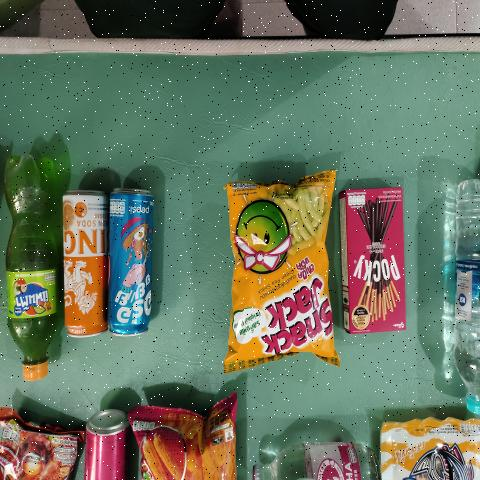fanta_green: (0, 141, 59, 392)
pepsi_blue: (108, 187, 151, 334)
pokki: (342, 189, 406, 334)
singha_yellow: (61, 192, 106, 338)
snack_jack: (233, 191, 330, 358)
